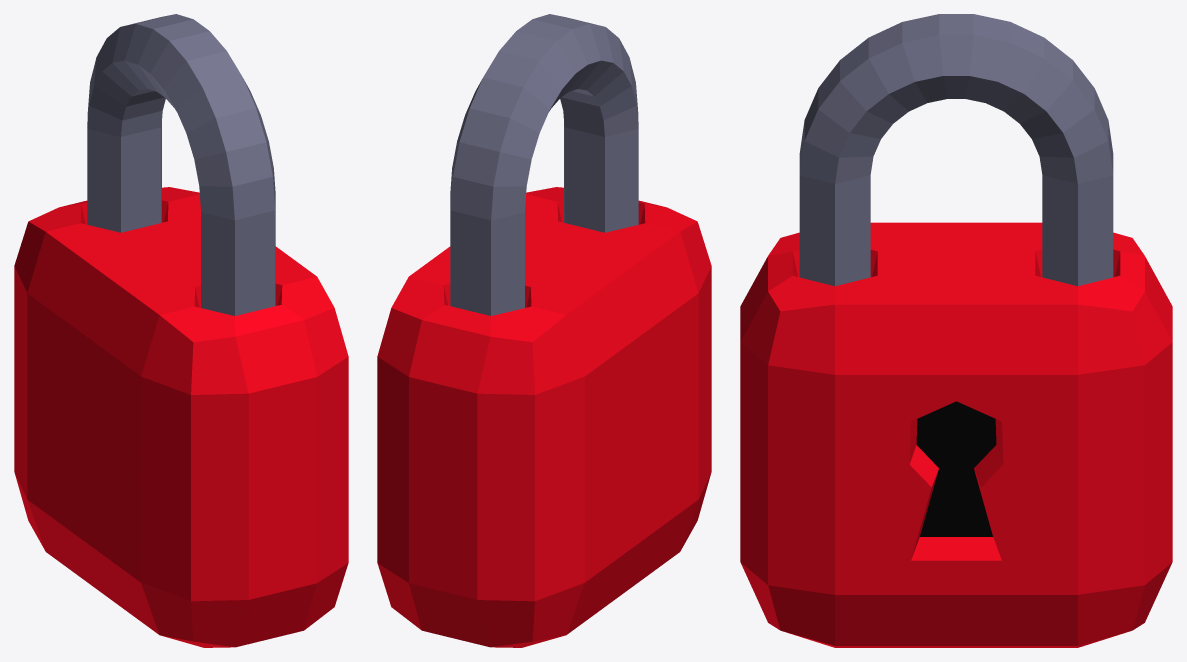
Rendered from zamekHotovo.fbx.
The picture shows the model from 3 angles, left to right: view 1: azimuth 30°, elevation 25°; view 2: azimuth 150°, elevation 25°; view 3: azimuth 270°, elevation 25°; orthographic projection. The views are drawn at different scales.
Visible parts, largest first — view 1: Cube; view 2: Cube; view 3: Cube.
Part boxes in pixels (box(x1,y1,x2,y2)): Cube: box(14, 14, 348, 647); Cube: box(377, 14, 711, 647); Cube: box(740, 14, 1172, 647).
Bounding box in the file's own units: 135 × 378 × 244.
